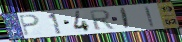1: (47, 12, 63, 35)
4: (73, 10, 92, 33)
I: (143, 5, 157, 28), (120, 7, 131, 30)
P: (18, 14, 41, 37)
R: (88, 9, 116, 32)
